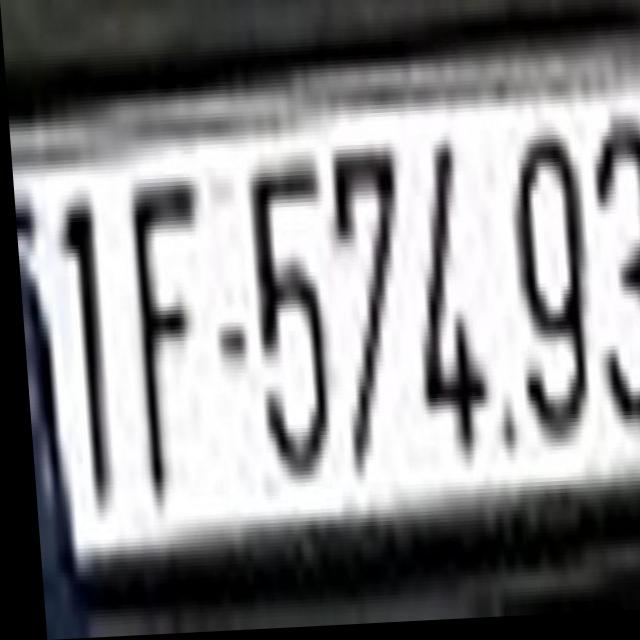1: (57, 179, 113, 503)
3: (582, 105, 640, 442)
4: (406, 152, 480, 472)
5: (237, 147, 334, 495)
7: (317, 109, 410, 499)
9: (498, 101, 591, 453)
F: (119, 190, 205, 496)
